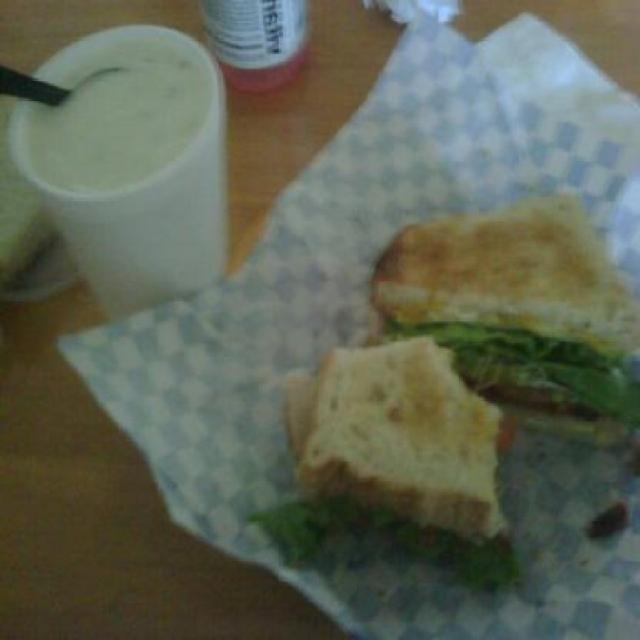clam chowder: (25, 15, 238, 337)
club sandwich: (260, 158, 634, 592)
